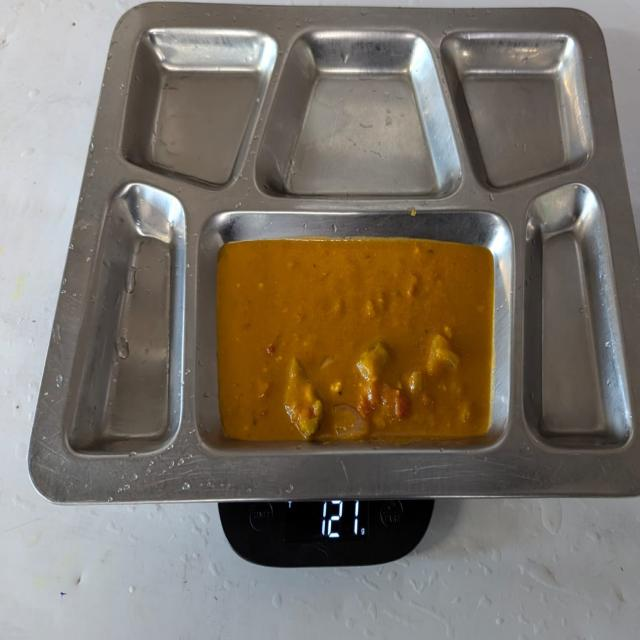Paneer Curry: (216, 237, 494, 444)
